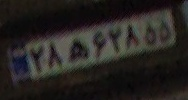character: (66, 38, 92, 65), (89, 30, 109, 62), (28, 44, 47, 76), (46, 42, 65, 73), (107, 27, 124, 57), (124, 24, 142, 52), (142, 20, 158, 49), (156, 18, 173, 45)
